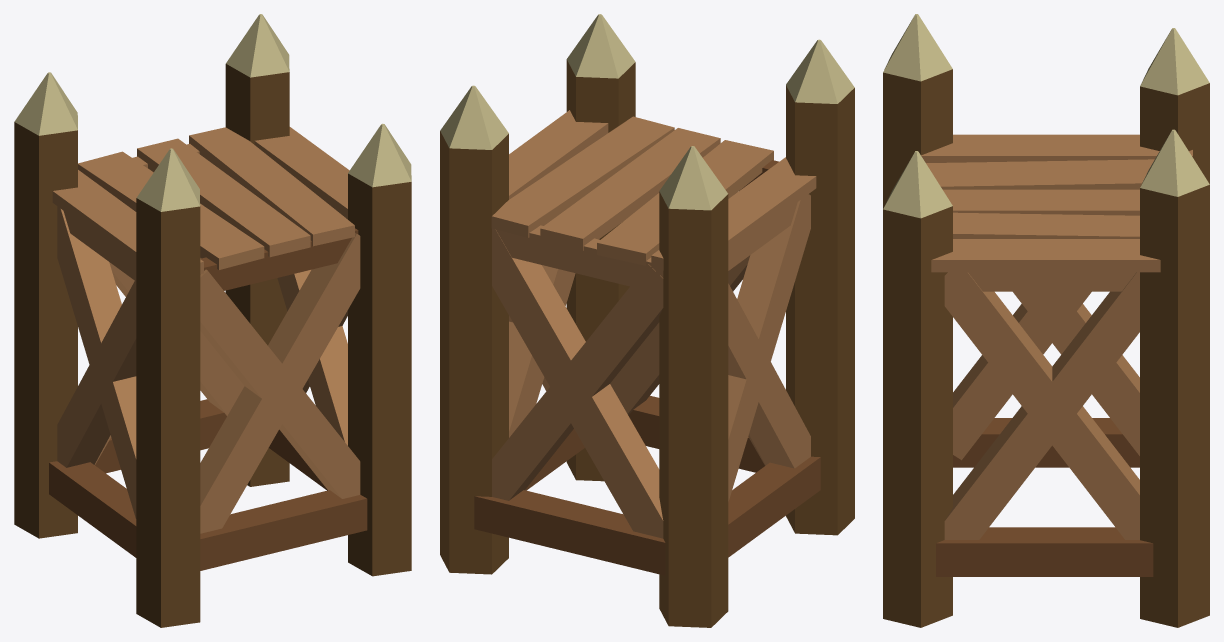
File: WoodenTower1.fbx
The picture shows the model from 3 angles, left to right: view 1: azimuth 30°, elevation 25°; view 2: azimuth 150°, elevation 25°; view 3: azimuth 270°, elevation 25°; orthographic projection. The views are drawn at different scales.
Visible parts, largest first — view 1: Cylinder.033, Cylinder.030, Cylinder.032, Cube.019, Cylinder.031, Cube.022, Cube.021, Cube.029, Cube.016, Cube.018, Cube.023, Cube.024 (+9 smaller); view 2: Cylinder.032, Cylinder.031, Cylinder.033, Cube.020, Cube.028, Cylinder.030, Cube.032, Cube.018, Cube.016, Cube.023, Cube.021, Cube.031 (+9 smaller); view 3: Cylinder.031, Cylinder.030, Cube.027, Cube.017, Cube.030, Cylinder.033, Cube.001, Cylinder.032, Cube.024, Cube.025, Cube.018, Cube.023 (+4 smaller).
Boxes of the visible parts, x1,y1,x2,y2 form: Cylinder.033: [136, 148, 200, 627]; Cylinder.030: [348, 123, 411, 576]; Cylinder.032: [14, 72, 77, 538]; Cube.019: [200, 233, 360, 533]; Cylinder.031: [225, 14, 289, 486]; Cube.022: [200, 269, 360, 498]; Cube.021: [57, 206, 136, 518]; Cube.029: [200, 490, 367, 570]; Cube.016: [189, 127, 354, 246]; Cube.018: [57, 278, 136, 467]; Cube.023: [137, 138, 310, 257]; Cube.024: [78, 151, 264, 269]; Cylinder.032: [659, 146, 728, 627]; Cylinder.031: [440, 85, 508, 574]; Cylinder.033: [786, 39, 854, 535]; Cube.020: [492, 228, 663, 538]; Cube.028: [492, 264, 663, 500]; Cylinder.030: [566, 14, 635, 481]; Cube.032: [474, 490, 665, 575]; Cube.018: [728, 194, 810, 501]; Cube.016: [491, 116, 674, 237]; Cube.023: [540, 128, 720, 250]; Cube.021: [728, 283, 810, 468]; Cube.031: [728, 456, 820, 557]; Cylinder.031: [1140, 129, 1209, 627]; Cylinder.030: [883, 151, 952, 627]; Cube.027: [944, 272, 1139, 539]; Cube.017: [944, 272, 1139, 539]; Cube.030: [936, 527, 1153, 576]; Cylinder.033: [883, 14, 952, 208]; Cube.001: [931, 239, 1160, 272]; Cylinder.032: [1140, 28, 1209, 183]; Cube.024: [926, 159, 1154, 189]; Cube.025: [921, 134, 1192, 162]; Cube.018: [1013, 291, 1139, 455]; Cube.023: [943, 189, 1139, 215].
Size of the model in its own units: 607 by 1005 by 608.
